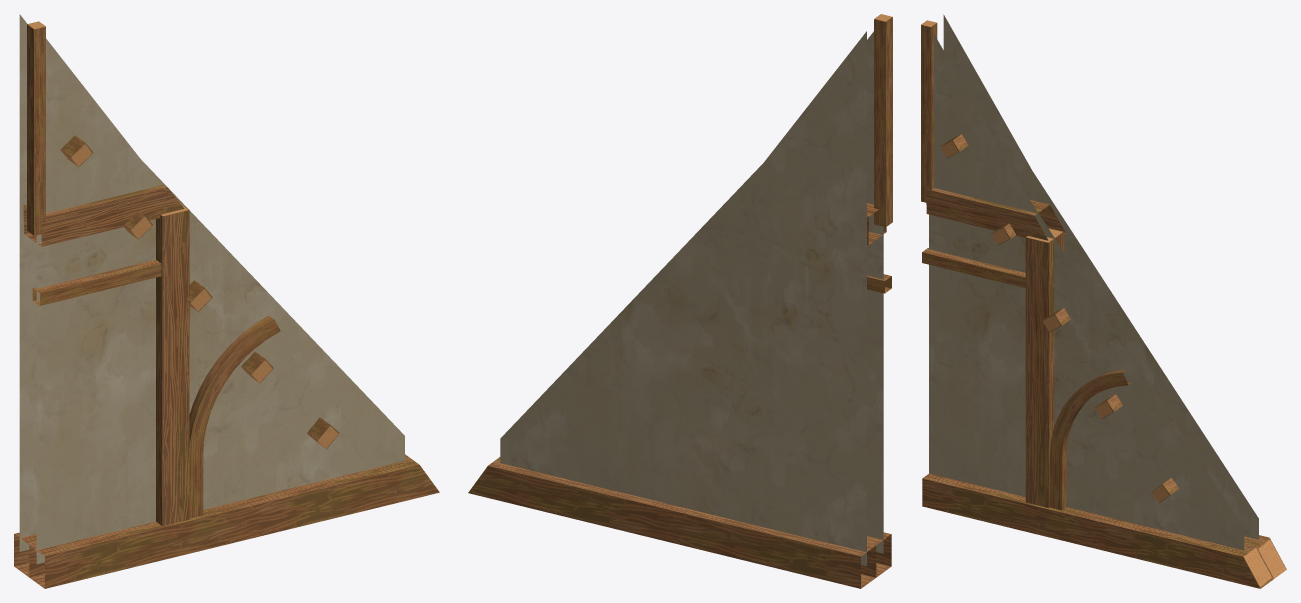
Rendered from Roof_Front_Brick6_Half_R.gltf.
3 renders of one model, left to right at view 1: azimuth 30°, elevation 25°; view 2: azimuth 150°, elevation 25°; view 3: azimuth 330°, elevation 25°, orthographic. The views are drawn at different scales.
Visible parts, largest first — view 1: Roof_Front_Brick6_Half_R; view 2: Roof_Front_Brick6_Half_R; view 3: Roof_Front_Brick6_Half_R.
Boxes of the visible parts, x1=… form: Roof_Front_Brick6_Half_R: x1=14, y1=14, x2=439, y2=588; Roof_Front_Brick6_Half_R: x1=468, y1=14, x2=892, y2=588; Roof_Front_Brick6_Half_R: x1=921, y1=14, x2=1286, y2=588.
Size of the model in its own units: 3.4 by 4.52 by 0.4896.
2 materials, 2 textured.
